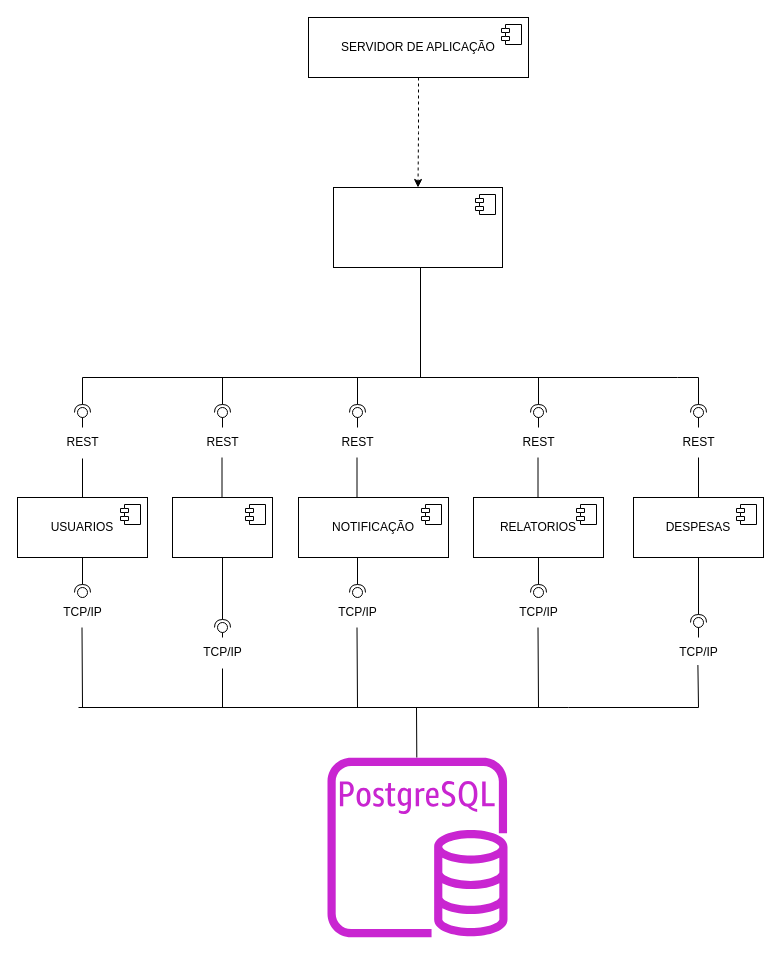
This 781x955 diagram has some shape labels left out. The centre of each missing label's shape, as x and y in pixels:
ADMIN: the point at 222,527
INTERFACE DE USUARIO: the point at 417,227
